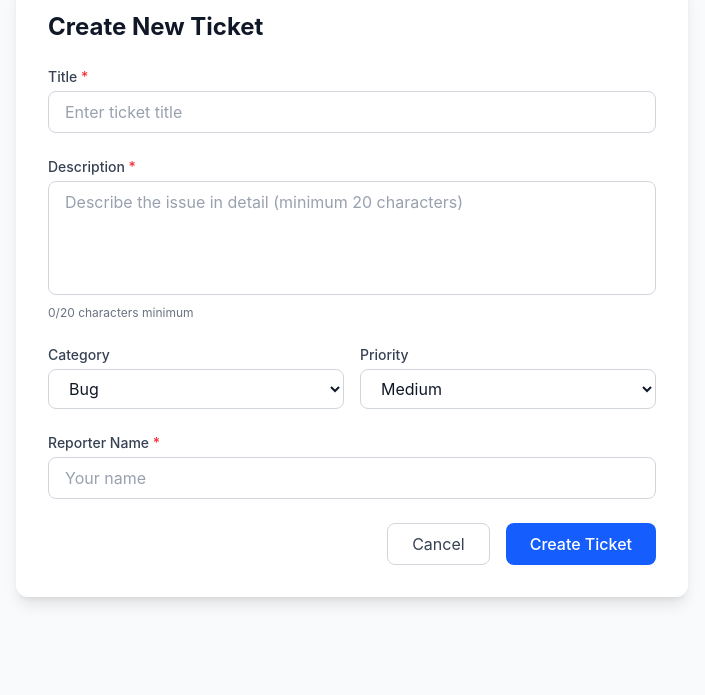
Scenario: TicketForm › should show validation errors on submit with empty form
The width and height of the screenshot is (705, 695).
Click the button "Create Ticket".
click(581, 544)  # box [506, 523, 656, 565]
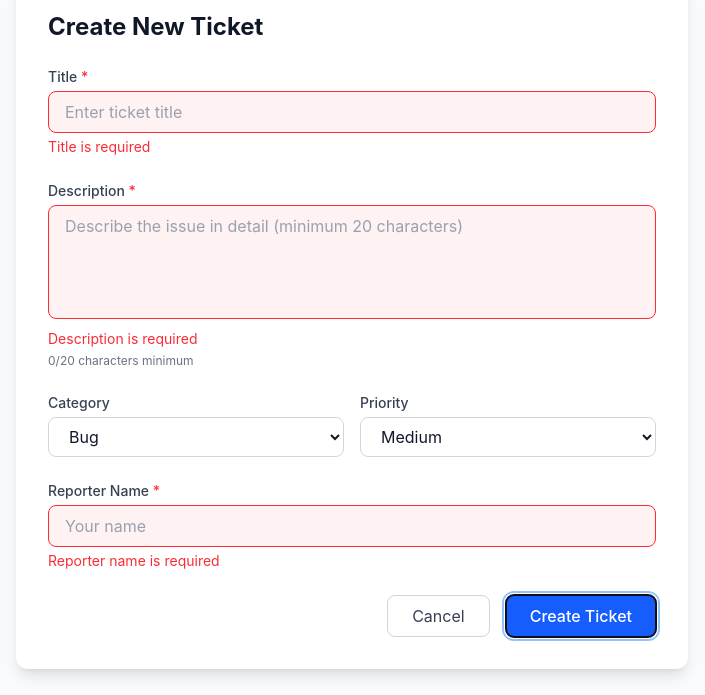
Expected: the text "Title is required" is shown, [48, 138, 150, 155]
Expected: the text "Description is required" is shown, [48, 330, 198, 347]
Expected: the text "Reporter name is required" is shown, [48, 552, 220, 569]
